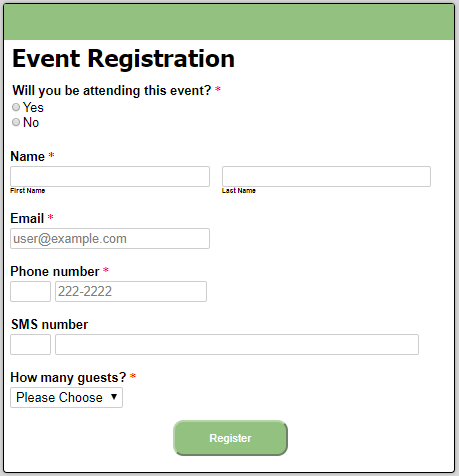Button: (168, 422, 299, 459)
DropDown: (6, 384, 133, 413)
RadioButton: (11, 99, 23, 114), (11, 116, 20, 130)
TextBox: (9, 223, 223, 253), (7, 161, 217, 189), (221, 165, 435, 188), (9, 280, 213, 303)
